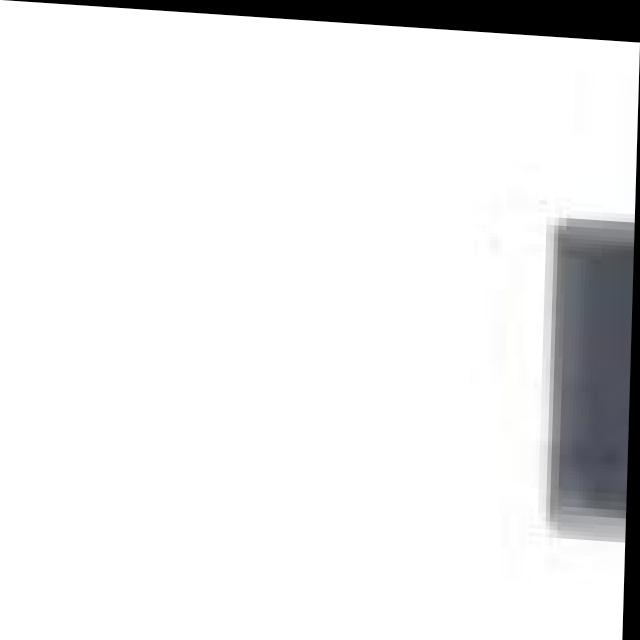transistor: (485, 58, 639, 640)
